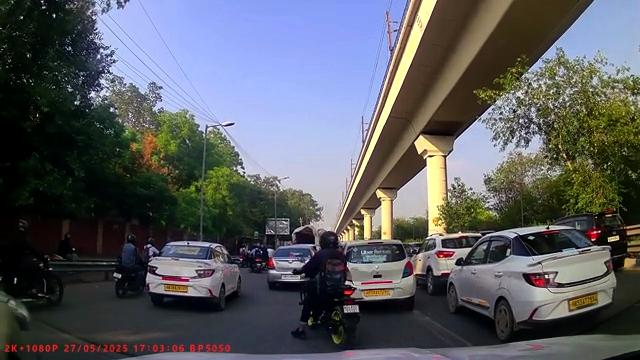motorcycle_with_helmet: (291, 229, 361, 344), (0, 218, 66, 309), (112, 232, 146, 298)
